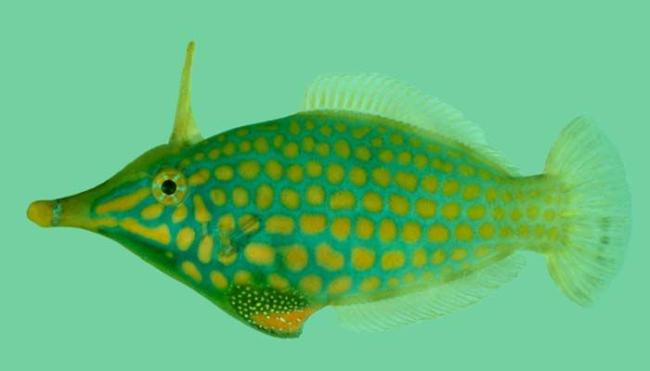fish: (26, 39, 632, 339)
